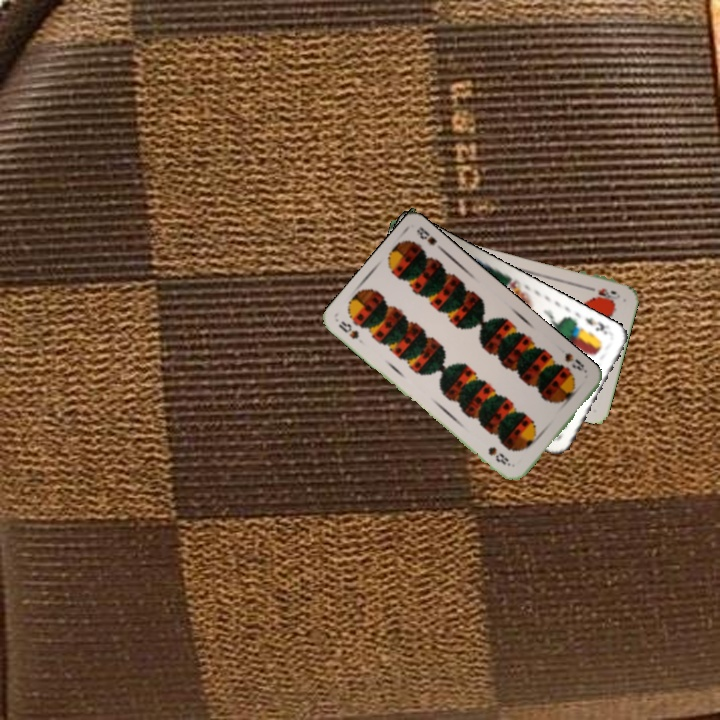EK: (580, 313, 610, 337)
HO: (583, 283, 620, 300)
S8: (560, 348, 590, 376), (334, 317, 362, 342)
